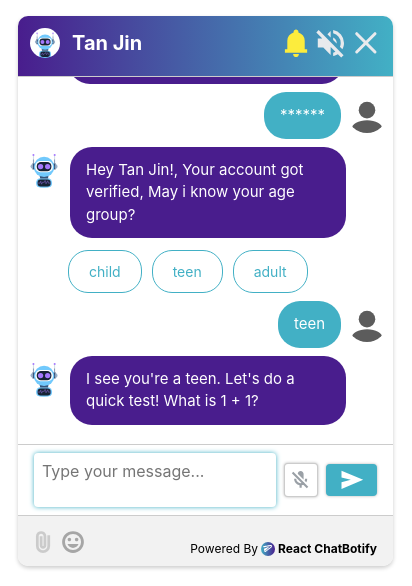
Test: Chat Bot Test Suite › Sends wrong math answer and verifies bot reply
(page scrolled)
In the text box with placeholder "Type your message...": (155, 480) x1=34 y1=453 x2=276 y2=507, type "3"
Then press Enter
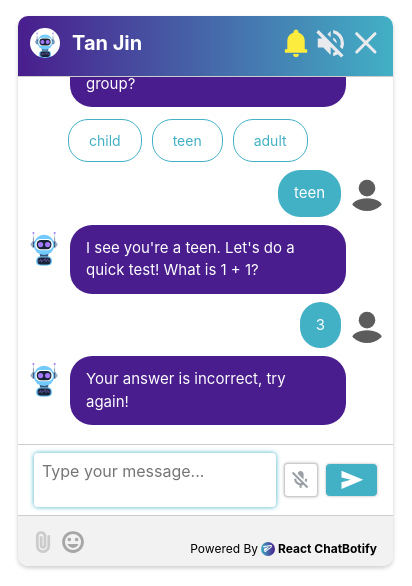
Expected: the text "Your answer is incorrect, try again!" is shown, x1=70 y1=356 x2=346 y2=425
